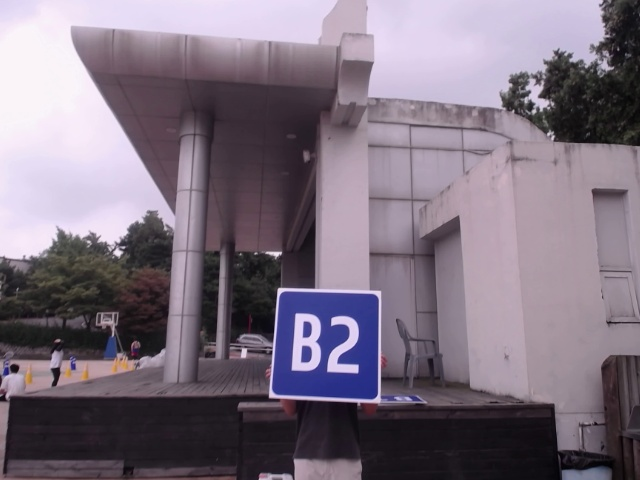delivery_b2: (275, 290, 380, 400)
